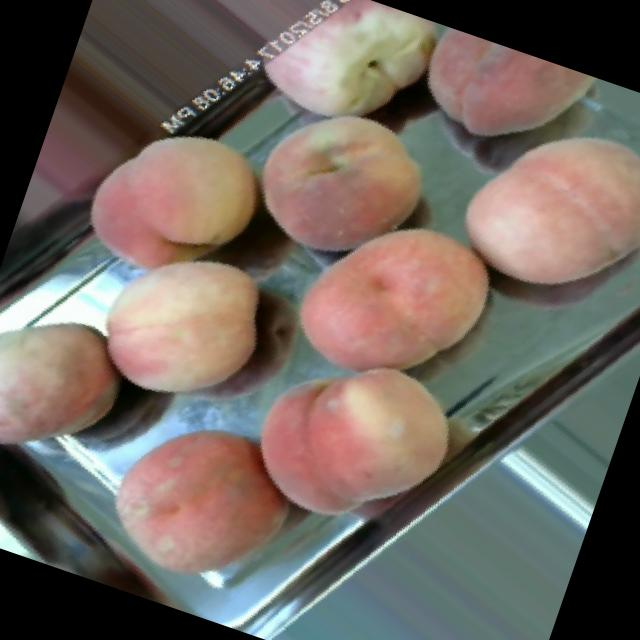Fruit: (216, 315, 494, 579), (259, 162, 534, 424), (43, 71, 304, 329), (70, 376, 332, 628), (211, 61, 464, 306), (420, 75, 640, 348), (64, 202, 300, 445), (380, 15, 620, 194), (0, 272, 160, 500)
